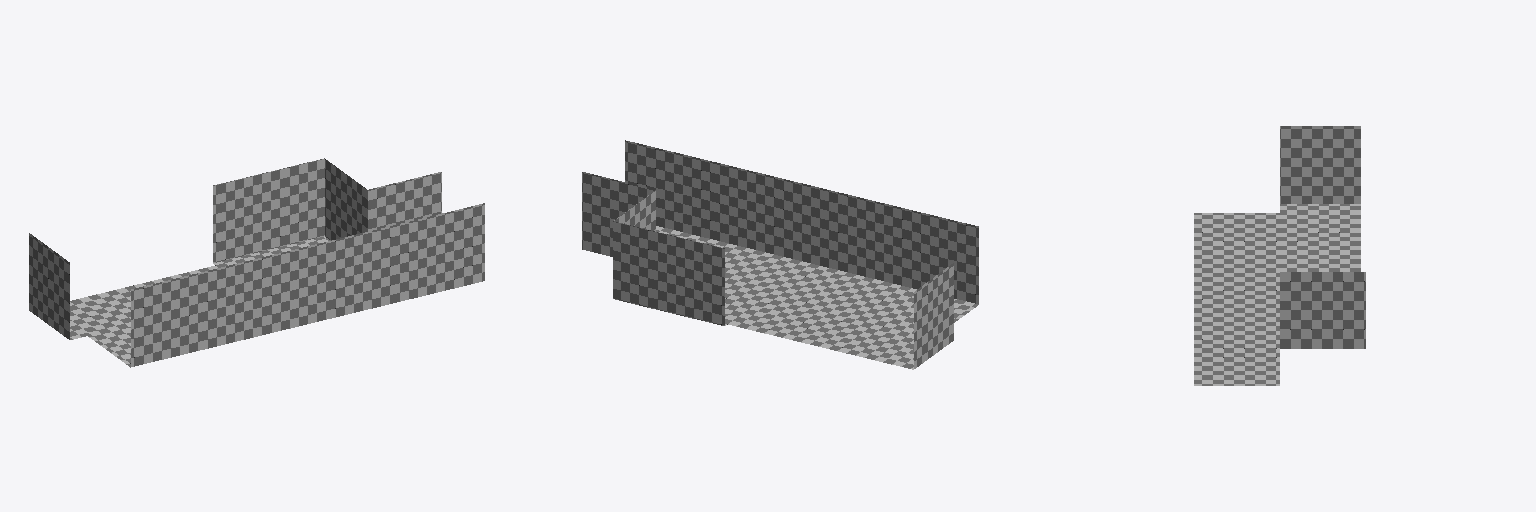
3 views of the same model, side by side, from view 1: azimuth 30°, elevation 25°; view 2: azimuth 150°, elevation 25°; view 3: azimuth 270°, elevation 25° (orthographic).
Visible parts, largest first — view 1: Main; view 2: Main; view 3: Main.
Part boxes in pixels (left/top/right/bottom): Main: left=29, top=158, right=484, bottom=367; Main: left=582, top=140, right=978, bottom=369; Main: left=1194, top=126, right=1365, bottom=385.
Size of the model in its own units: 100 by 20 by 40.
1 materials, 1 textured.